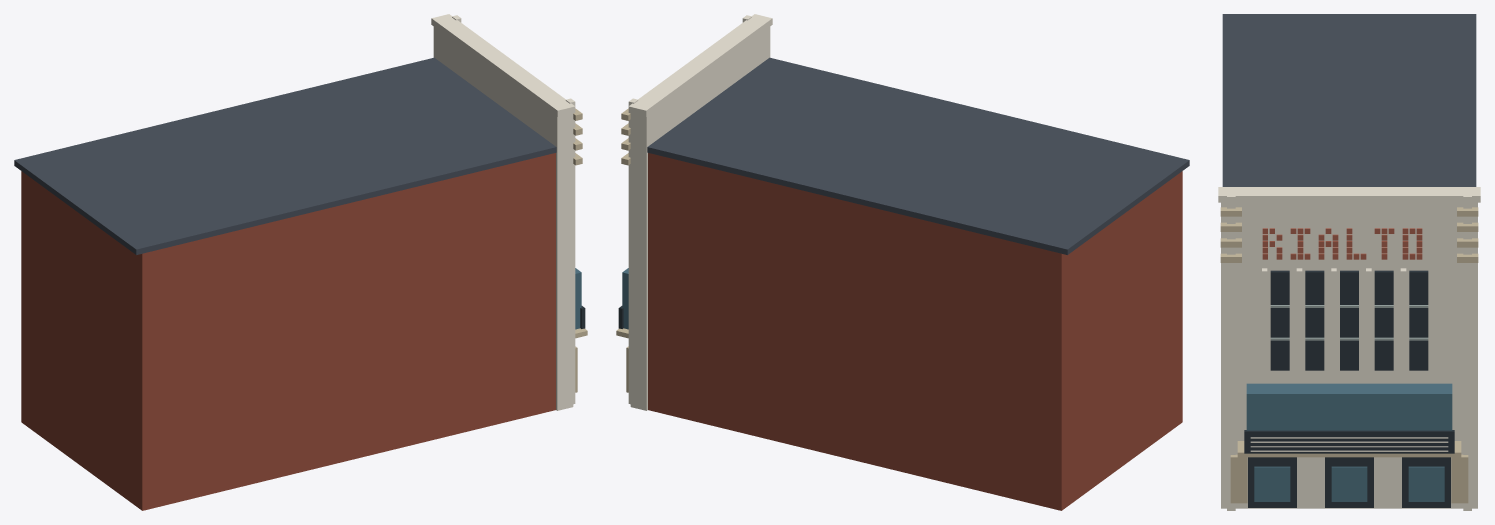
File: rialto.glb
3 views of the same model, side by side, from view 1: azimuth 30°, elevation 25°; view 2: azimuth 150°, elevation 25°; view 3: azimuth 270°, elevation 25° (orthographic). The views are drawn at different scales.
Parts seen in each view (by area): view 1: rialto; view 2: rialto; view 3: rialto.
Part boxes in pixels (x1,y1,x2,y2): rialto: (14, 14, 587, 510); rialto: (616, 14, 1189, 510); rialto: (1218, 14, 1480, 510).
Size of the model in its own units: 25.97 by 16.3 by 12.34.
